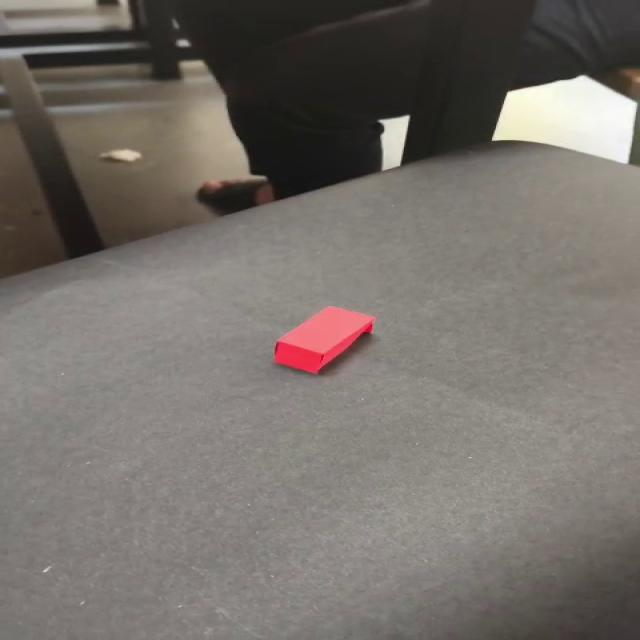red block: (272, 305, 376, 374)
